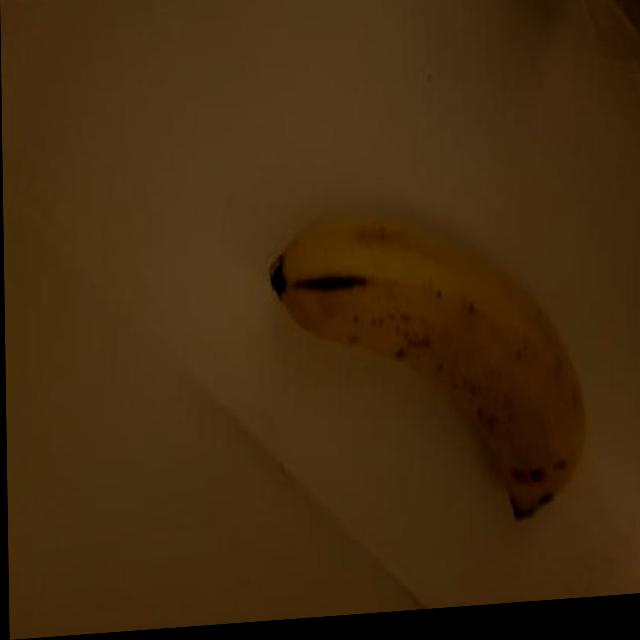banana: (263, 184, 594, 548)
